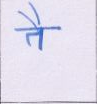au_matra: (22, 8, 48, 44)
